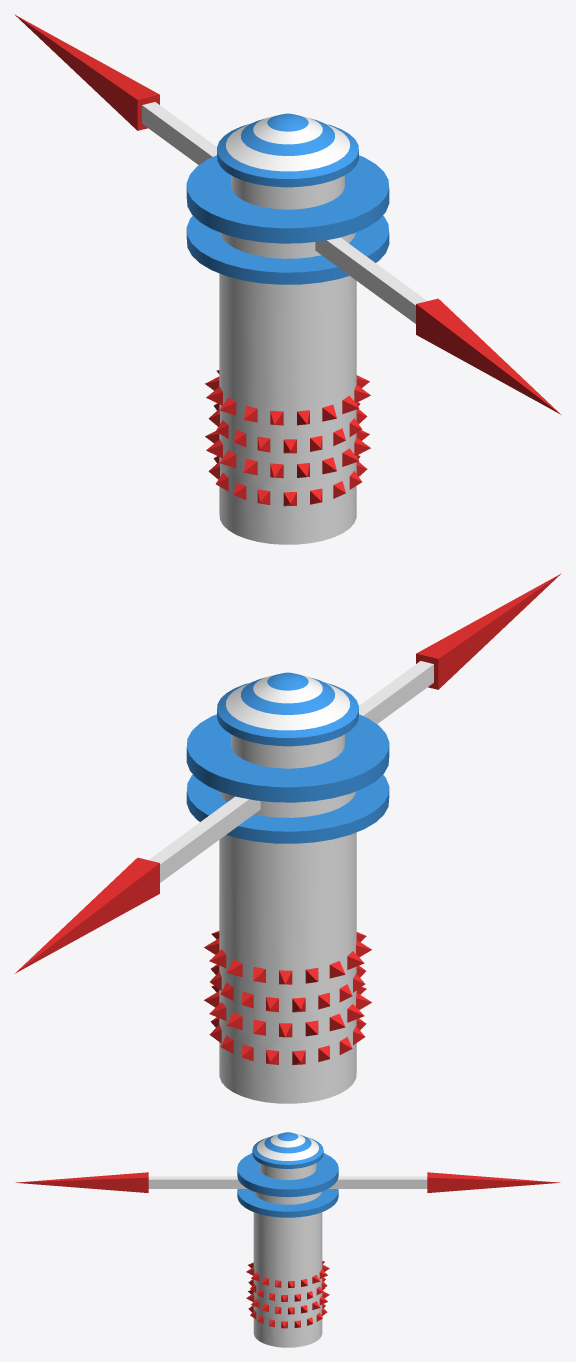
The model's file is obstacle2.fbx.
3 renders of one model, top to bottom at view 1: azimuth 30°, elevation 25°; view 2: azimuth 150°, elevation 25°; view 3: azimuth 270°, elevation 25°, orthographic. The views are drawn at different scales.
Visible parts, largest first — view 1: Cylinder.003, Cylinder.002; view 2: Cylinder.003, Cylinder.002; view 3: Cylinder.003, Cylinder.002.
Boxes of the visible parts, x1,y1,x2,y2 form: Cylinder.003: [186, 113, 389, 544]; Cylinder.002: [14, 14, 560, 414]; Cylinder.003: [186, 672, 389, 1103]; Cylinder.002: [15, 573, 561, 973]; Cylinder.003: [237, 1132, 338, 1347]; Cylinder.002: [15, 1172, 560, 1192].
Size of the model in its own units: 60.16 by 130 by 325.
1 material, 1 textured.
